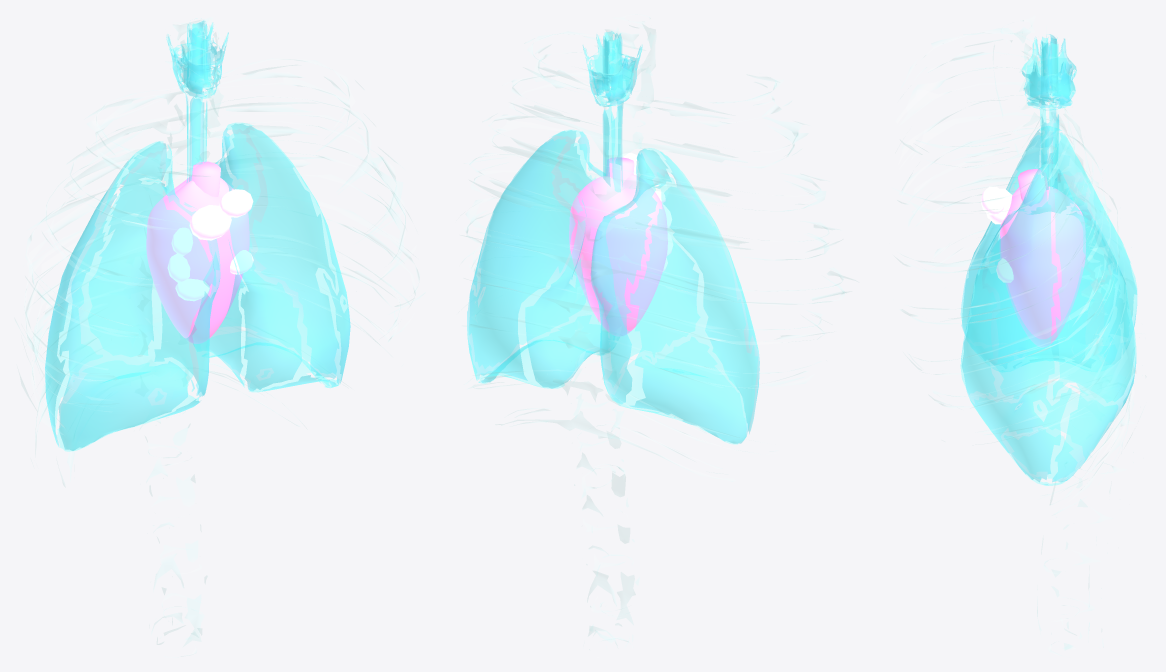
The model's file is heart-anatomical-responding-1.glb.
The picture shows the model from 3 angles, left to right: view 1: azimuth 30°, elevation 25°; view 2: azimuth 150°, elevation 25°; view 3: azimuth 270°, elevation 25°; orthographic projection. The views are drawn at different scales.
Visible parts, largest first — view 1: Lungs, Ribcage, Heart, AmyloidAnat_5, AortaAnat, AmyloidAnat_8, AmyloidAnat_7; view 2: Lungs, Ribcage, Heart, AortaAnat; view 3: Lungs, Ribcage, Heart, AortaAnat, AmyloidAnat_8.
Boxes of the visible parts, x1,y1,x2,y2 form: Lungs: [45, 20, 350, 451]; Ribcage: [15, 17, 424, 655]; Heart: [146, 176, 249, 343]; AmyloidAnat_5: [189, 205, 231, 240]; AortaAnat: [191, 161, 220, 196]; AmyloidAnat_8: [219, 189, 253, 217]; AmyloidAnat_7: [175, 278, 209, 301]; Lungs: [467, 31, 759, 444]; Ribcage: [464, 14, 855, 647]; Heart: [569, 174, 667, 336]; AortaAnat: [606, 157, 634, 185]; Lungs: [960, 34, 1137, 485]; Ribcage: [896, 16, 1136, 654]; Heart: [1000, 186, 1085, 347]; AortaAnat: [1018, 169, 1047, 205]; AmyloidAnat_8: [980, 186, 1005, 215].
Bounding box in the file's own units: 1.21 × 1.94 × 0.7414.
